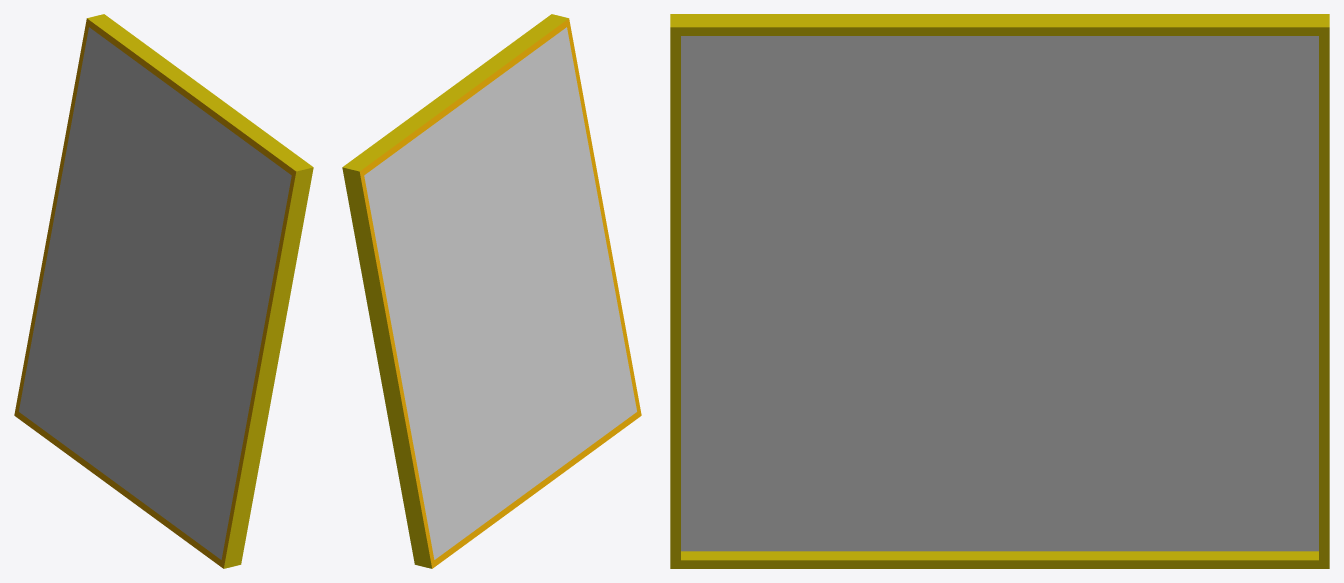
File: window_slanted_5x1x5.dae
3 renders of one model, left to right at view 1: azimuth 30°, elevation 25°; view 2: azimuth 150°, elevation 25°; view 3: azimuth 270°, elevation 25°, orthographic. The views are drawn at different scales.
Parts seen in each view (by area): view 1: Cube; view 2: Cube; view 3: Cube.
Part boxes in pixels (left/top/right/bottom): Cube: left=14, top=14, right=313, bottom=568; Cube: left=342, top=14, right=641, bottom=568; Cube: left=670, top=14, right=1329, bottom=568.
Size of the model in its own units: 0.31 by 1.25 by 1.25.
